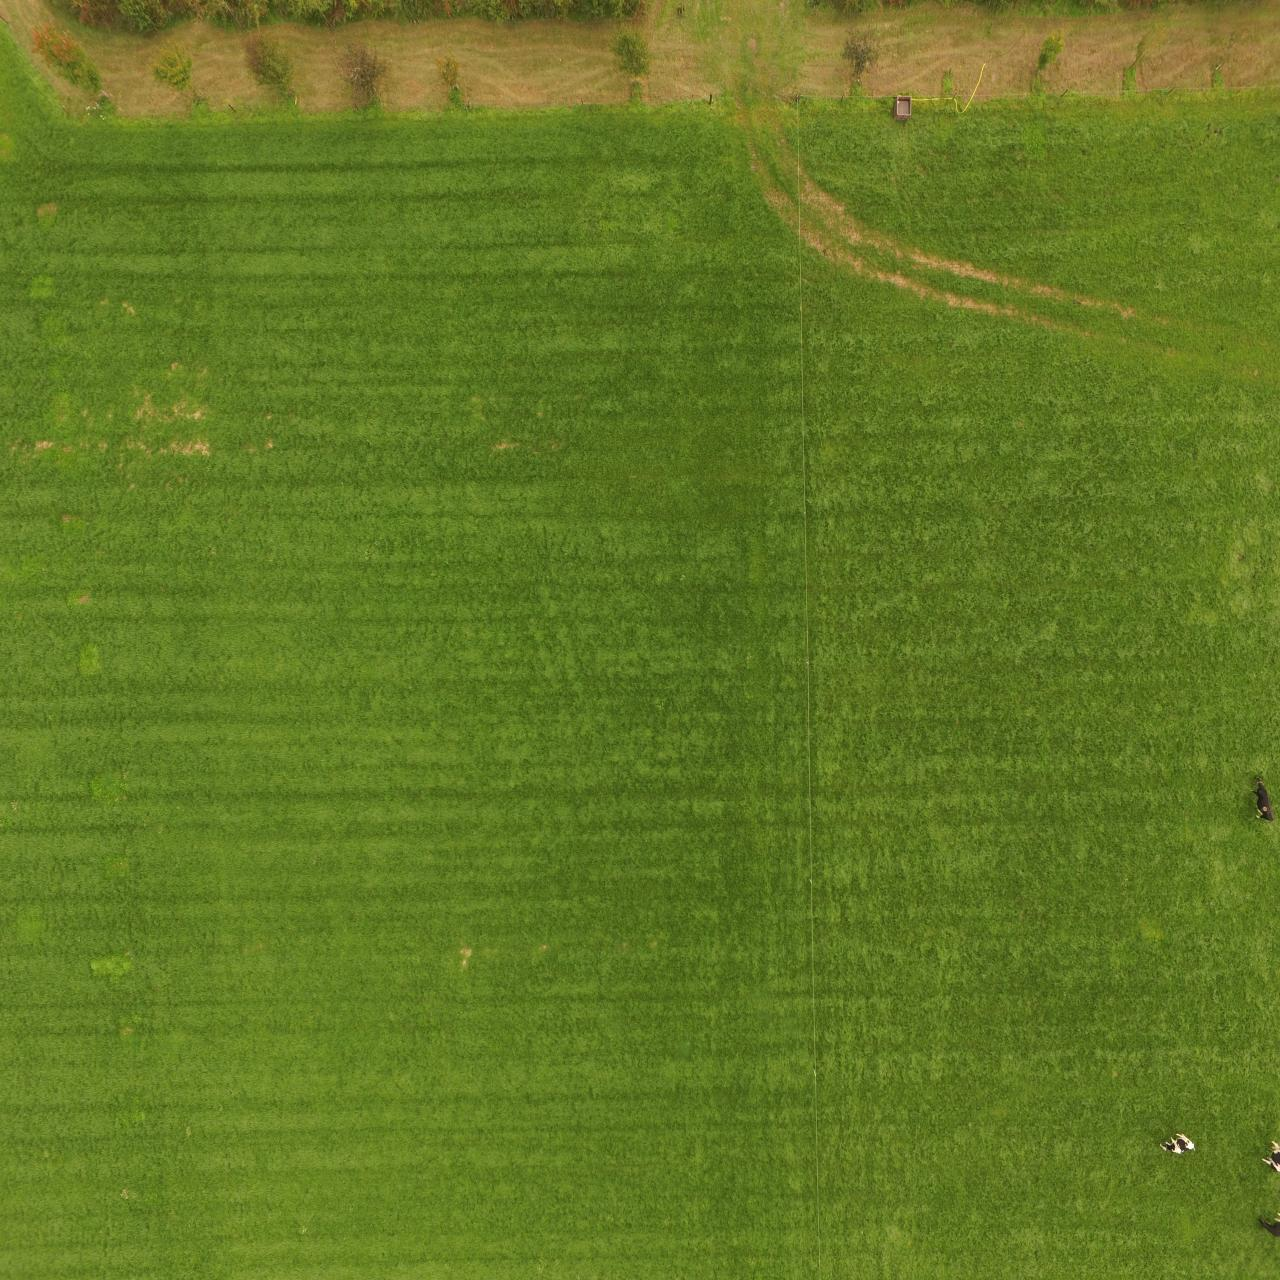cow: (1253, 777, 1275, 823), (1159, 1131, 1198, 1157)
